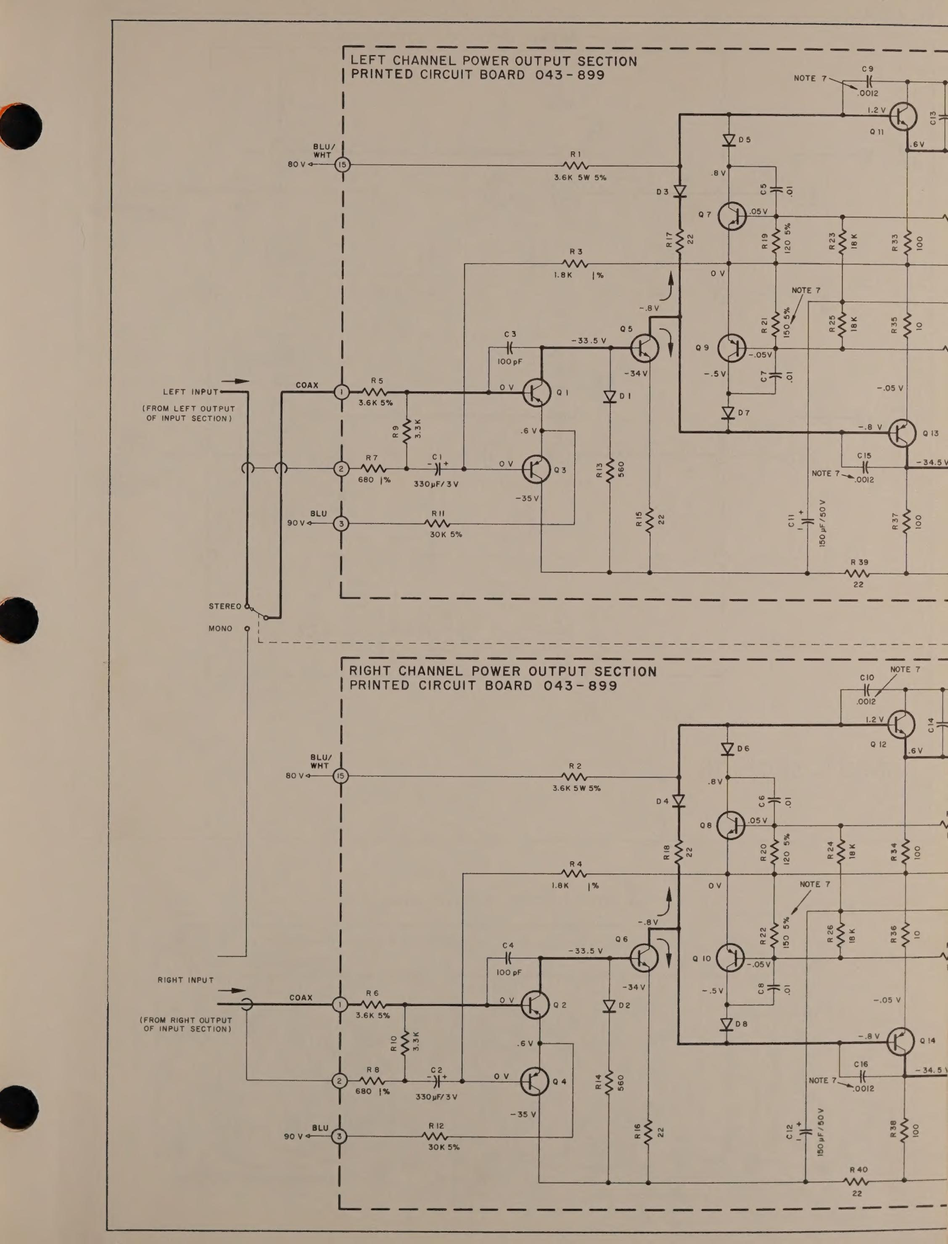C1: (431, 452, 443, 462)
C10: (858, 671, 875, 683)
C11: (787, 513, 796, 529)
C12: (783, 1122, 795, 1142)
C13: (928, 110, 938, 127)
C14: (926, 715, 936, 734)
C15: (857, 451, 873, 460)
C16: (853, 1058, 870, 1069)
C2: (429, 1064, 443, 1075)
C3: (503, 329, 518, 339)
C4: (500, 939, 515, 950)
C5: (758, 182, 768, 196)
C6: (756, 794, 767, 810)
C7: (759, 369, 768, 384)
C8: (755, 980, 766, 997)
C9: (861, 62, 875, 73)
D2: (618, 1000, 632, 1012)
D3: (654, 187, 671, 198)
D4: (654, 797, 671, 806)
D6: (735, 743, 751, 755)
D7: (737, 407, 750, 417)
D8: (734, 1018, 748, 1030)
Q1: (555, 386, 570, 398)
Q10: (691, 954, 712, 963)
Q12: (869, 739, 887, 750)
Q13: (921, 429, 941, 438)
Q14: (918, 1034, 938, 1047)
Q2: (552, 999, 570, 1011)
Q4: (552, 1076, 568, 1087)
Q5: (617, 324, 634, 335)
Q7: (697, 210, 713, 219)
Q8: (698, 819, 713, 831)
Q9: (694, 342, 710, 352)
R1: (568, 148, 583, 161)
R10: (388, 1034, 400, 1052)
R11: (430, 508, 446, 518)
R12: (427, 1121, 446, 1131)
R13: (595, 461, 604, 478)
R14: (593, 1072, 603, 1091)
R15: (634, 509, 644, 528)
R16: (631, 1122, 642, 1141)
R17: (665, 230, 674, 248)
R18: (663, 844, 671, 861)
R19: (760, 230, 769, 252)
R2: (567, 762, 584, 770)
R20: (758, 841, 767, 863)
R21: (758, 315, 769, 334)
R22: (758, 924, 768, 946)
R23: (826, 231, 837, 252)
R24: (825, 841, 835, 861)
R25: (827, 312, 837, 335)
R26: (825, 923, 835, 944)
R3: (568, 246, 583, 257)
R33: (890, 232, 900, 254)
R34: (889, 840, 900, 863)
R35: (889, 315, 898, 336)
R36: (887, 923, 898, 944)
R37: (890, 511, 900, 531)
R38: (888, 1119, 898, 1140)
R39: (850, 558, 869, 567)
R4: (569, 859, 583, 868)
R40: (849, 1165, 870, 1174)
R5: (369, 374, 386, 385)
R6: (364, 988, 381, 997)
R7: (365, 453, 380, 462)
R8: (366, 1065, 381, 1073)
